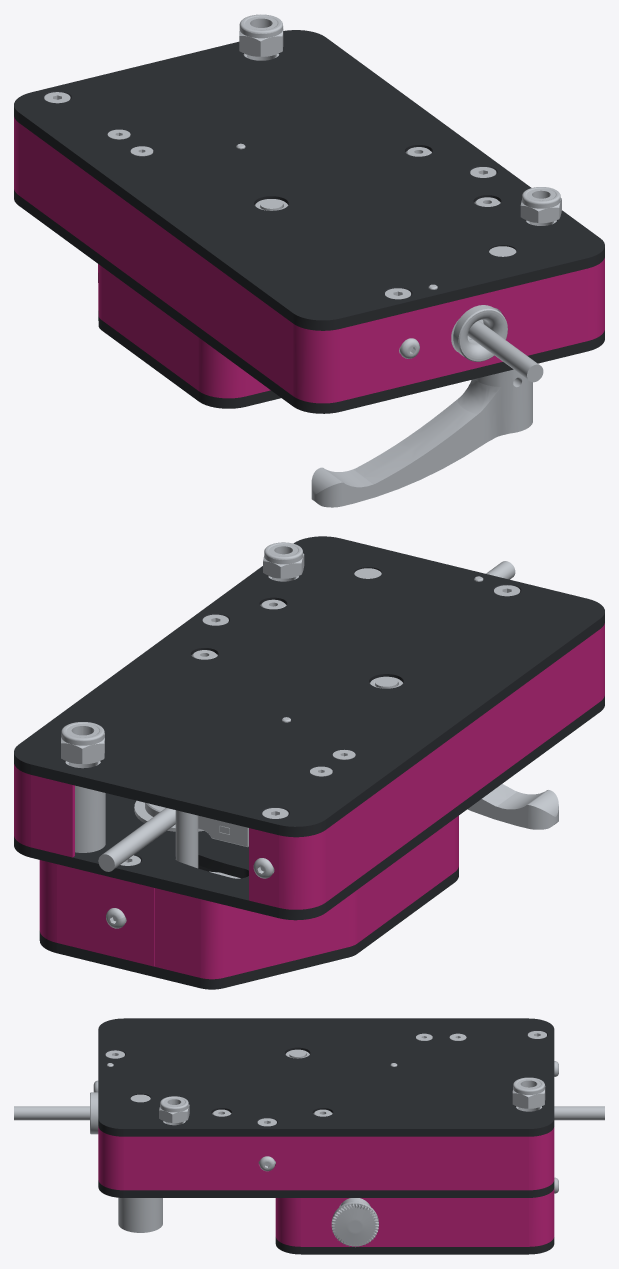
File: dispositivo.glb
The picture shows the model from 3 angles, top to bottom: view 1: azimuth 30°, elevation 25°; view 2: azimuth 150°, elevation 25°; view 3: azimuth 270°, elevation 25°; orthographic projection. The views are drawn at different scales.
Visible parts, largest first — view 1: Cárter inferior · pieza-001, Tapa lateral inferior · pieza-004, Palanca de rearme · Lever handles ERF_95 N-12-C1PROVA, Tapa lateral superior · pieza-005, Cárter medio · pieza-002, Cárter superior · pieza-003, Casquillo de entrada del cable · pieza-011, DIN-985_M12 NYLOC, Cable secundario Ø 8,3 mm, DIN-985_M10 NYLOC; view 2: Cárter inferior · pieza-001, Tapa lateral inferior · pieza-004, Tapa lateral superior · pieza-005, Cárter medio · pieza-002, Cárter superior · pieza-003, Palanca de rearme · Lever handles ERF_95 N-12-C1PROVA, Cable secundario Ø 8,3 mm, pieza-009, DIN-985_M12 NYLOC, DIN-985_M10 NYLOC, pieza-032, pieza-044 #2; view 3: Cárter inferior · pieza-001, Tapa lateral inferior · pieza-004, Tapa lateral superior · pieza-005, Cárter medio · pieza-002, Cárter superior · pieza-003, Cable secundario Ø 8,3 mm, Pulsador manual · GN 313-10-A-1-ST A, Palanca de rearme · Lever handles ERF_95 N-12-C1PROVA, DIN-985_M12 NYLOC, DIN-985_M10 NYLOC, Casquillo de entrada del cable · pieza-011.
Boxes of the visible parts, x1,y1,x2,y2 form: Cárter inferior · pieza-001: (14,30,604,330); Tapa lateral inferior · pieza-004: (14,117,604,403); Palanca de rearme · Lever handles ERF_95 N-12-C1PROVA: (311,369,532,507); Tapa lateral superior · pieza-005: (98,264,270,398); Cárter medio · pieza-002: (14,189,604,413); Cárter superior · pieza-003: (98,273,280,408); Casquillo de entrada del cable · pieza-011: (453,305,507,361); DIN-985_M12 NYLOC: (239,14,283,56); Cable secundario Ø 8,3 mm: (467,320,543,382); DIN-985_M10 NYLOC: (520,187,561,223); Cárter inferior · pieza-001: (14,536,604,837); Tapa lateral inferior · pieza-004: (14,623,604,909); Tapa lateral superior · pieza-005: (39,815,458,979); Cárter medio · pieza-002: (14,696,604,920); Cárter superior · pieza-003: (39,867,458,989); Palanca de rearme · Lever handles ERF_95 N-12-C1PROVA: (467,784,558,829); Cable secundario Ø 8,3 mm: (98,561,515,871); pieza-009: (65,761,105,852); DIN-985_M12 NYLOC: (61,722,104,764); DIN-985_M10 NYLOC: (263,542,304,578); pieza-032: (175,810,198,868); pieza-044 #2: (198,815,248,847); Cárter inferior · pieza-001: (98,1018,554,1136); Tapa lateral inferior · pieza-004: (98,1126,554,1190); Tapa lateral superior · pieza-005: (275,1188,554,1246); Cárter medio · pieza-002: (98,1180,554,1197); Cárter superior · pieza-003: (275,1237,554,1254); Cable secundario Ø 8,3 mm: (14,1106,604,1120); Pulsador manual · GN 313-10-A-1-ST A: (331,1198,378,1247); Palanca de rearme · Lever handles ERF_95 N-12-C1PROVA: (118,1197,162,1232); DIN-985_M12 NYLOC: (512,1077,545,1108); DIN-985_M10 NYLOC: (159,1096,189,1123); Casquillo de entrada del cable · pieza-011: (90,1092,98,1134).
Size of the model in its own units: 161 by 114 by 350.
